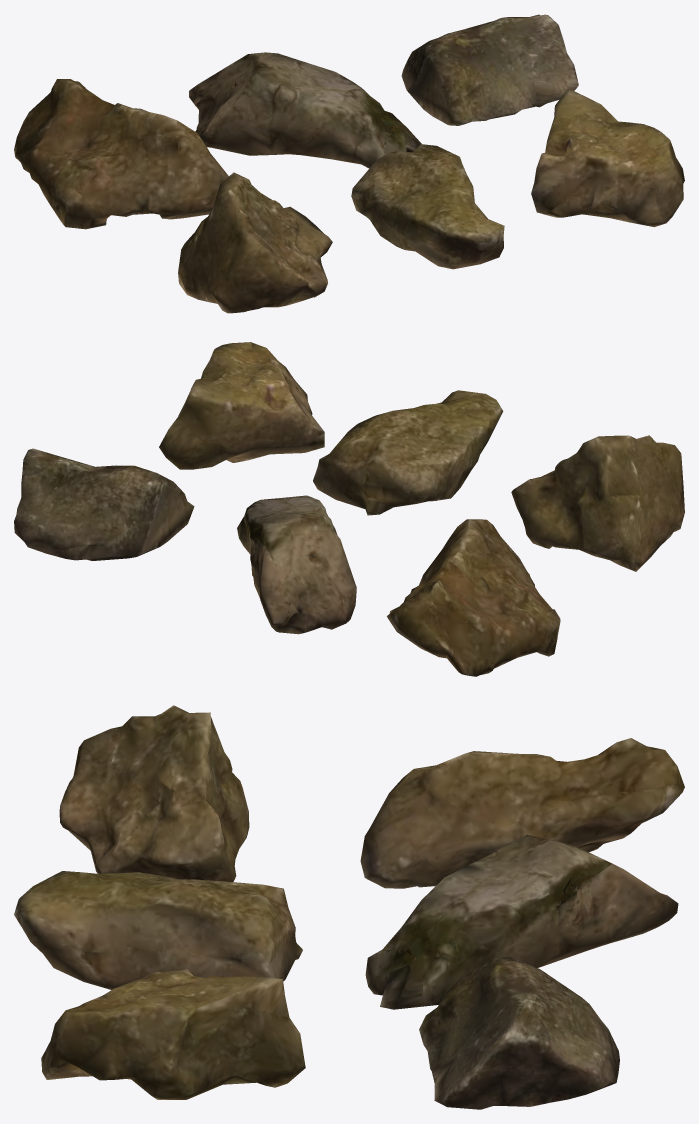
The model's file is rock_moss_set_01.glb.
The picture shows the model from 3 angles, top to bottom: view 1: azimuth 30°, elevation 25°; view 2: azimuth 150°, elevation 25°; view 3: azimuth 270°, elevation 25°; orthographic projection. The views are drawn at different scales.
Parts seen in each view (by area): view 1: rock_moss_set_01_rock01, rock_moss_set_01_rock02, rock_moss_set_01_rock06, rock_moss_set_01_rock04, rock_moss_set_01_rock03, rock_moss_set_01_rock05; view 2: rock_moss_set_01_rock04, rock_moss_set_01_rock01, rock_moss_set_01_rock03, rock_moss_set_01_rock05, rock_moss_set_01_rock06, rock_moss_set_01_rock02; view 3: rock_moss_set_01_rock01, rock_moss_set_01_rock02, rock_moss_set_01_rock05, rock_moss_set_01_rock06, rock_moss_set_01_rock04, rock_moss_set_01_rock03.
Boxes of the visible parts, x1,y1,x2,y2 form: rock_moss_set_01_rock01: (14,79,228,229); rock_moss_set_01_rock02: (189,52,421,168); rock_moss_set_01_rock06: (531,89,684,227); rock_moss_set_01_rock04: (178,172,332,313); rock_moss_set_01_rock03: (401,14,578,125); rock_moss_set_01_rock05: (351,144,504,269); rock_moss_set_01_rock04: (511,435,684,571); rock_moss_set_01_rock01: (387,519,560,676); rock_moss_set_01_rock03: (14,448,194,560); rock_moss_set_01_rock05: (313,390,503,515); rock_moss_set_01_rock06: (159,342,324,469); rock_moss_set_01_rock02: (237,495,356,634); rock_moss_set_01_rock01: (360,738,684,888); rock_moss_set_01_rock02: (365,834,678,1009); rock_moss_set_01_rock05: (14,871,302,989); rock_moss_set_01_rock06: (41,969,305,1099); rock_moss_set_01_rock04: (59,705,249,881); rock_moss_set_01_rock03: (419,957,619,1109).
Size of the model in its own units: 8 by 1.76 by 6.94.
Materials: 1 (1 with a texture image).
